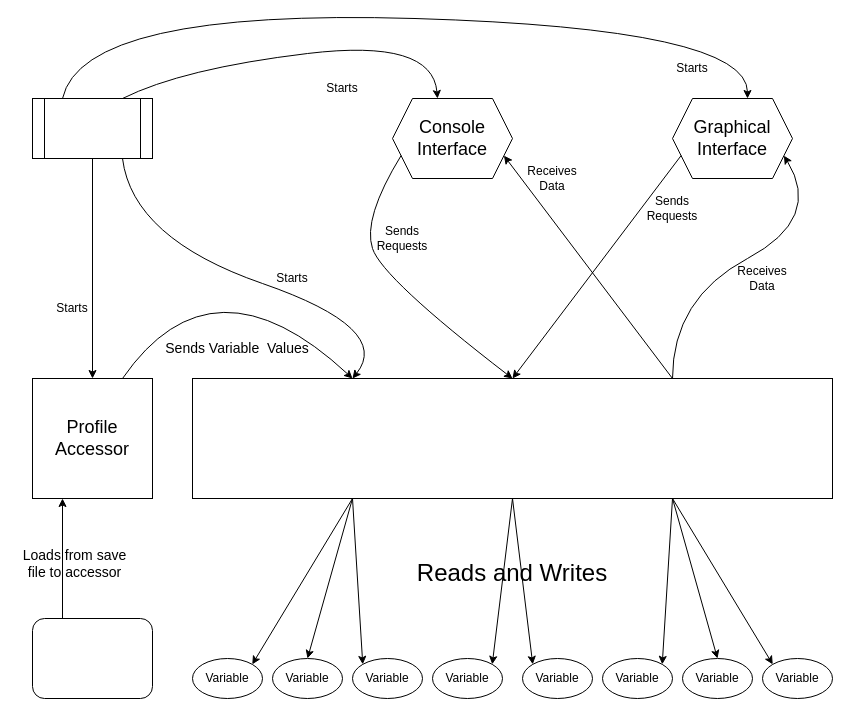
This 850x716 diagram has some shape labels left out. Here are the shapes that lost their labels. From the top down, the centre of each, then its label:
(92,128): Main
(512,438): Game State Tracker
(92,658): Save File
